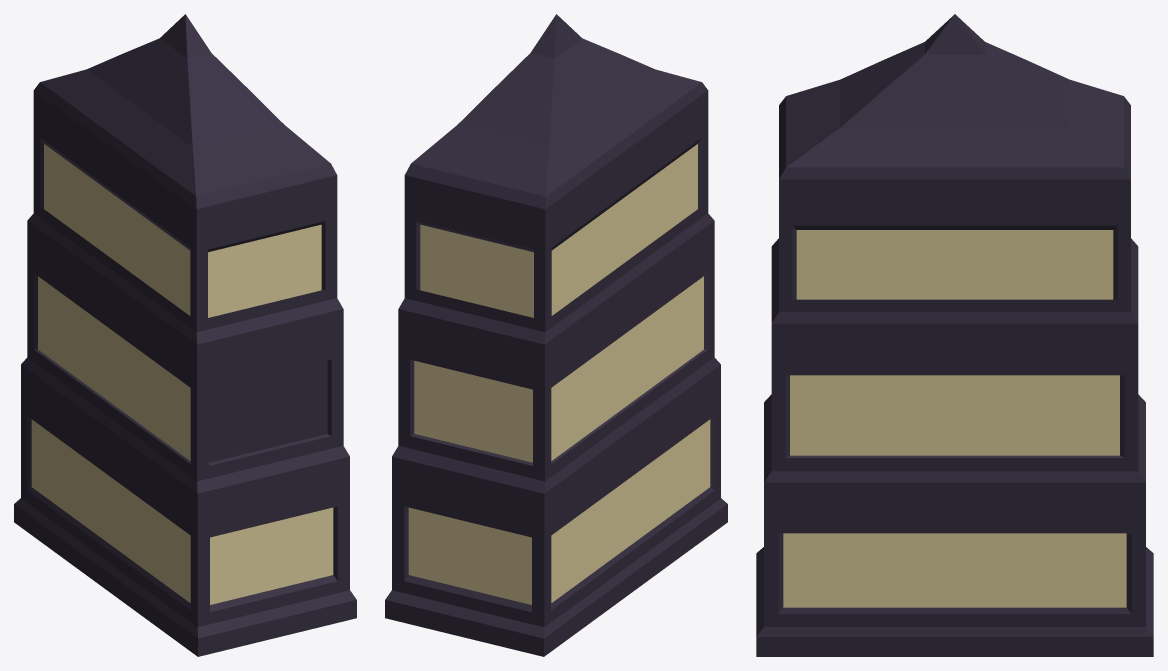
File: Upper building.fbx
3 renders of one model, left to right at view 1: azimuth 30°, elevation 25°; view 2: azimuth 150°, elevation 25°; view 3: azimuth 270°, elevation 25°, orthographic. The views are drawn at different scales.
Visible parts, largest first — view 1: Cube.165; view 2: Cube.165; view 3: Cube.165.
Boxes of the visible parts, left/top/right/bottom form: Cube.165: left=14, top=14, right=356, bottom=656; Cube.165: left=385, top=14, right=727, bottom=656; Cube.165: left=756, top=14, right=1153, bottom=656.
Size of the model in its own units: 1149 by 3848 by 2305.
